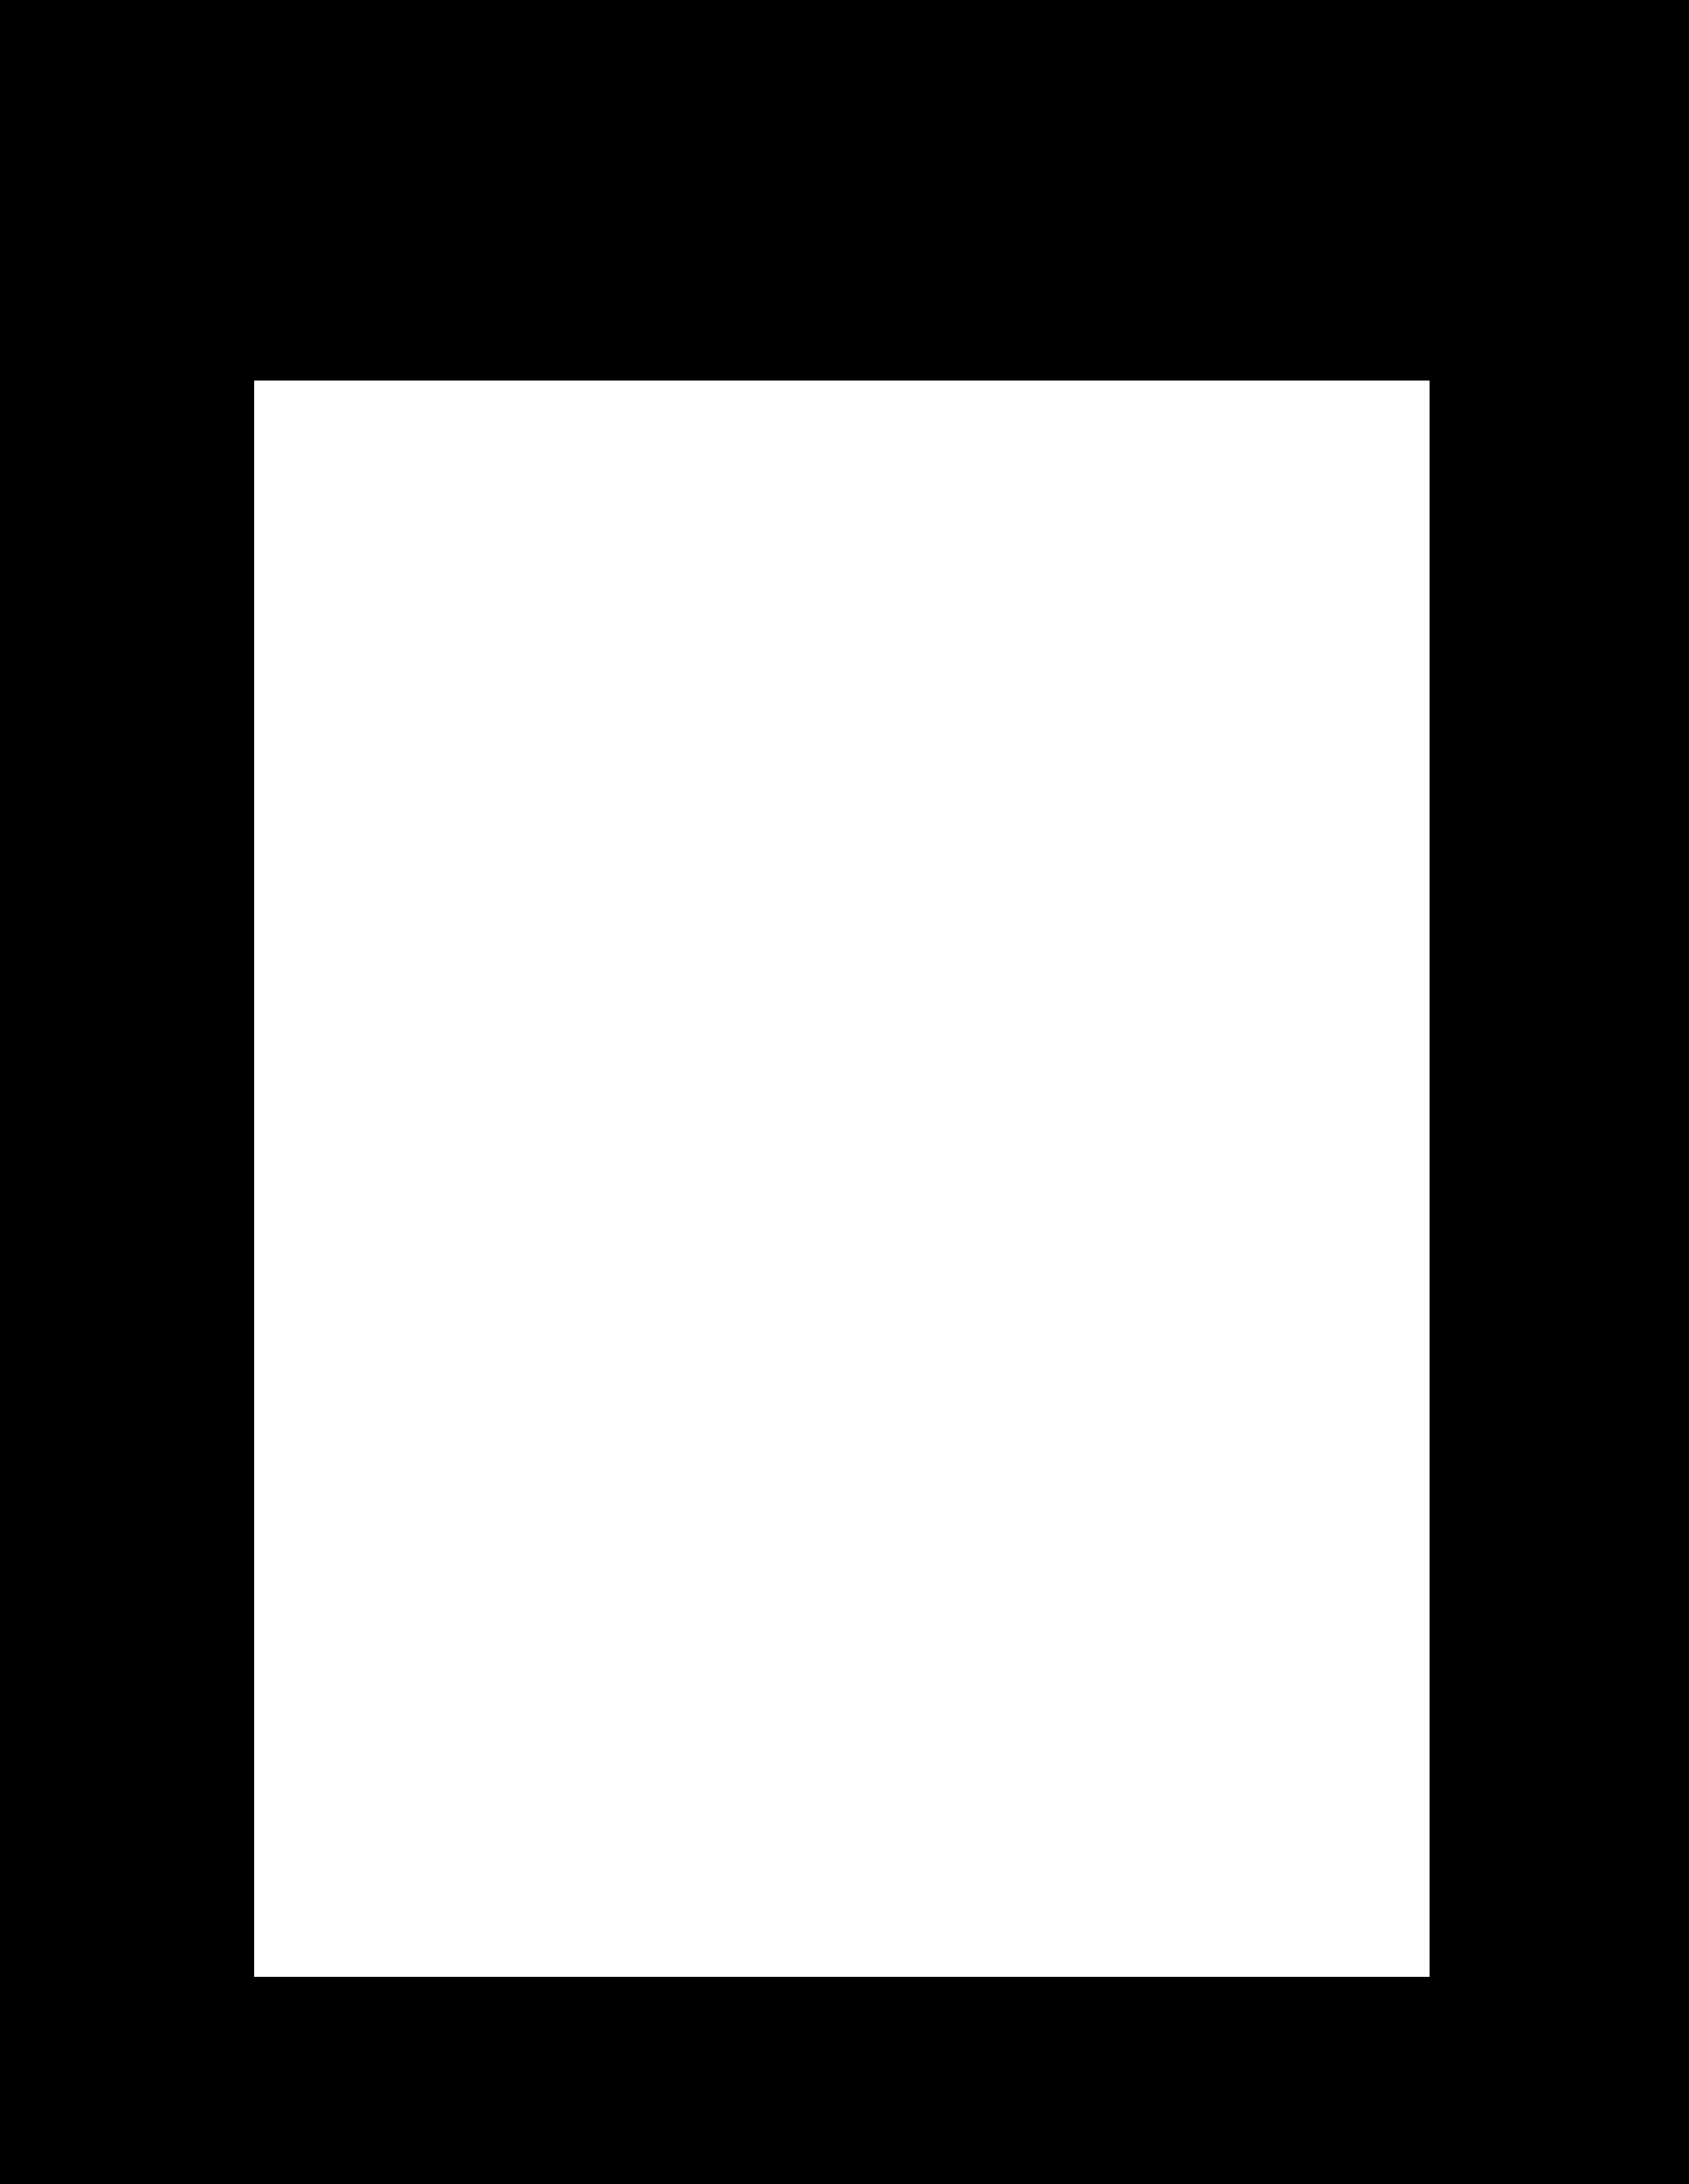table: (253, 381, 1428, 1977)
